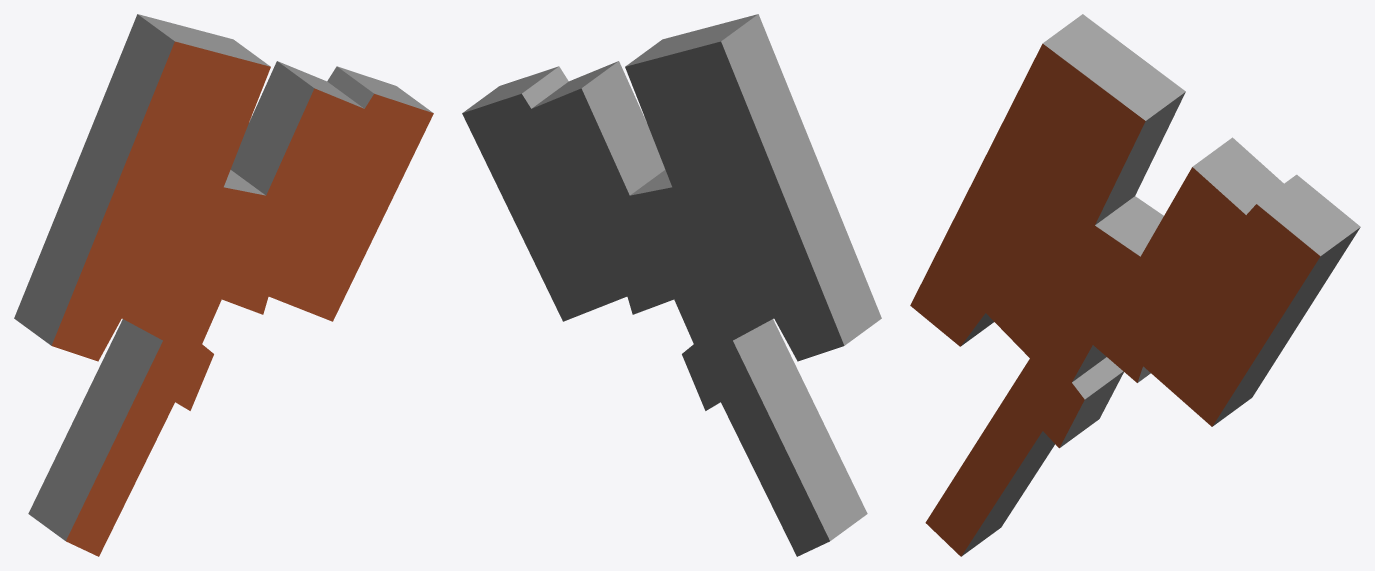
Rendered from construction_1720_assumed_A_Casa_h6m.obj.
3 renders of one model, left to right at view 1: azimuth 30°, elevation 25°; view 2: azimuth 150°, elevation 25°; view 3: azimuth 330°, elevation 25°, orthographic. The views are drawn at different scales.
Visible parts, largest first — view 1: construction_1720_assumed_A_Casa; view 2: construction_1720_assumed_A_Casa; view 3: construction_1720_assumed_A_Casa.
Part boxes in pixels (x1,y1,x2,y2): construction_1720_assumed_A_Casa: (14,14,433,556); construction_1720_assumed_A_Casa: (462,14,881,556); construction_1720_assumed_A_Casa: (910,14,1360,556).
Bounding box in the file's own units: 35.33 × 43.88 × 6.
